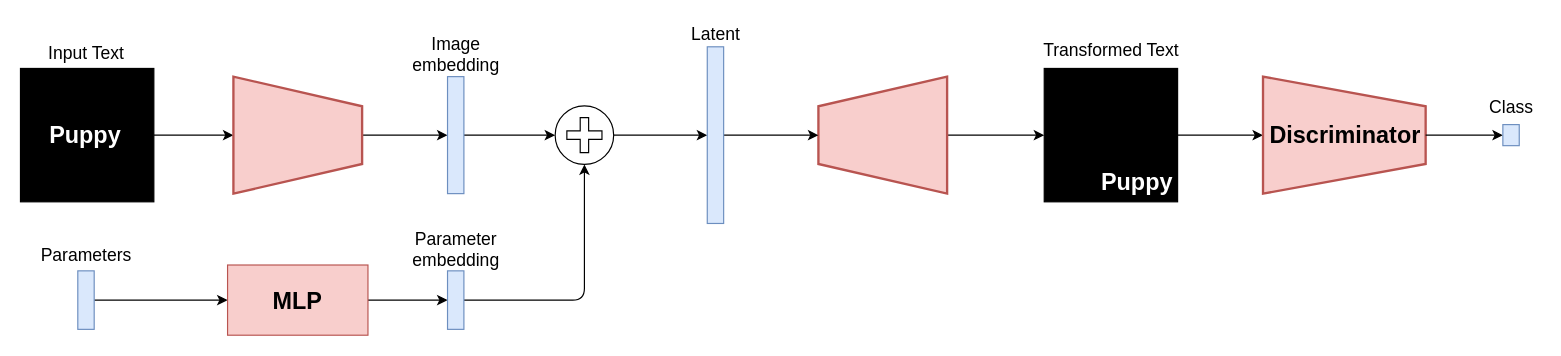
This 1561x356 diagram has some shape labels left out. Here are the shapes that lost their labels. From the top down, the centre of each, then its label:
At [297,134]: "Encoder".
At [882,134]: "Decoder".
